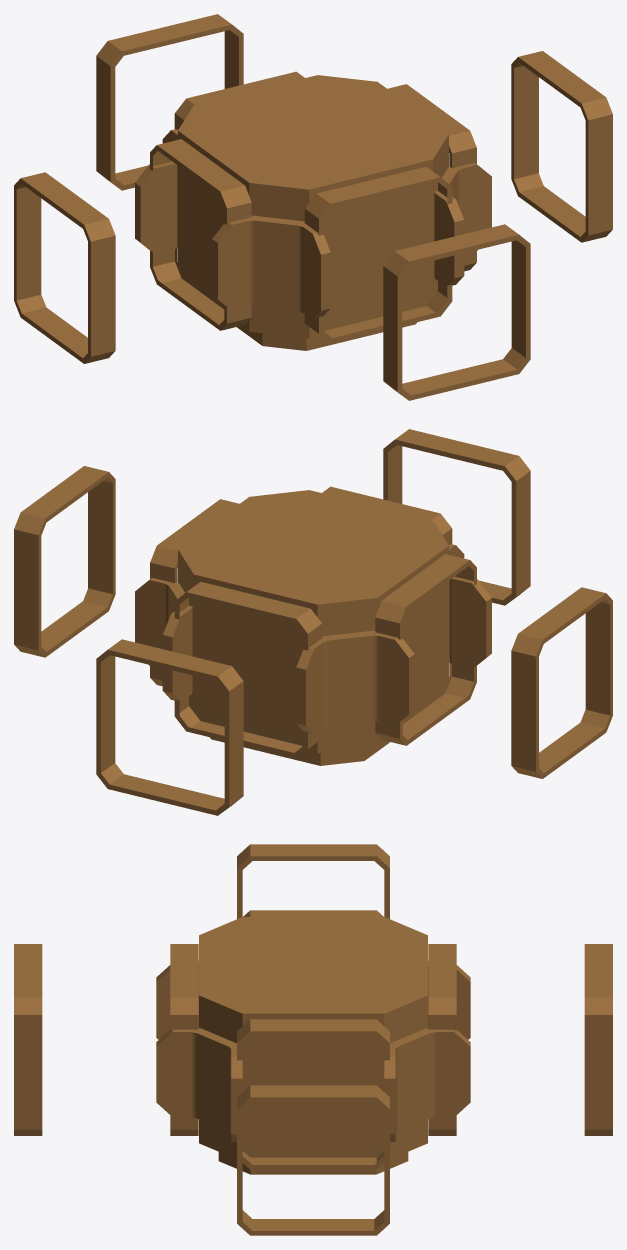
3 views of the same model, one above another, from view 1: azimuth 30°, elevation 25°; view 2: azimuth 150°, elevation 25°; view 3: azimuth 270°, elevation 25° (orthographic).
Parts seen in each view (by area): view 1: SM_Workbench_Table_LOD0; view 2: SM_Workbench_Table_LOD0; view 3: SM_Workbench_Table_LOD0.
Boxes of the visible parts, x1,y1,x2,y2 form: SM_Workbench_Table_LOD0: (14, 14, 612, 400); SM_Workbench_Table_LOD0: (14, 429, 612, 815); SM_Workbench_Table_LOD0: (14, 844, 612, 1235).
Bounding box in the file's own units: 4.22 × 1.32 × 4.22.
